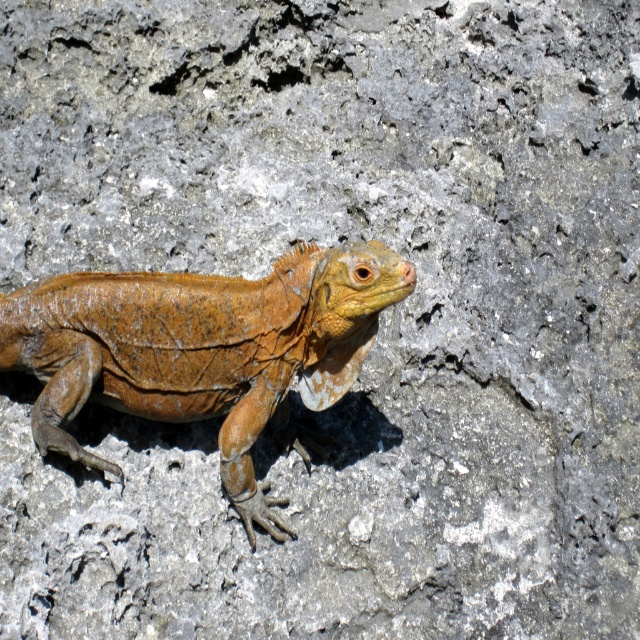Lizard: (3, 234, 424, 585)
